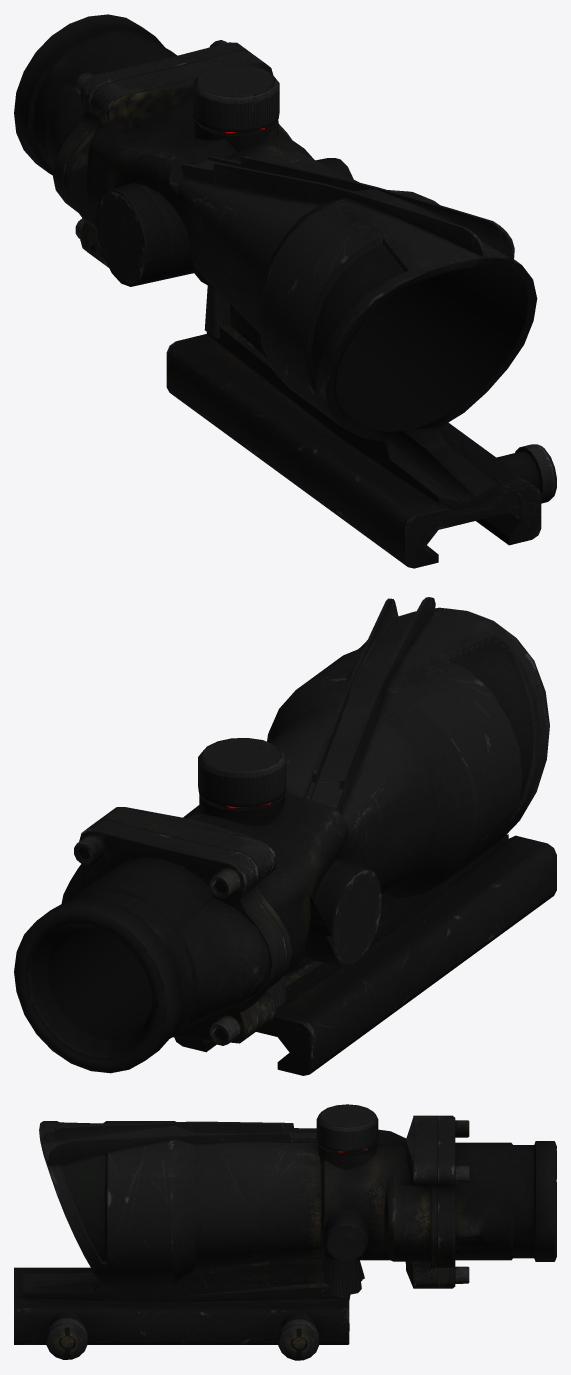
Rendered from scope_4x.glb.
3 renders of one model, top to bottom at view 1: azimuth 30°, elevation 25°; view 2: azimuth 150°, elevation 25°; view 3: azimuth 270°, elevation 25°, orthographic. The views are drawn at different scales.
Parts seen in each view (by area): view 1: item; view 2: item; view 3: item.
Part boxes in pixels (x1,y1,x2,y2): item: (14, 14, 556, 568); item: (14, 597, 556, 1075); item: (14, 1104, 556, 1360).
Size of the model in its own units: 0.0538 by 0.068 by 0.16.
1 material, 1 textured.
